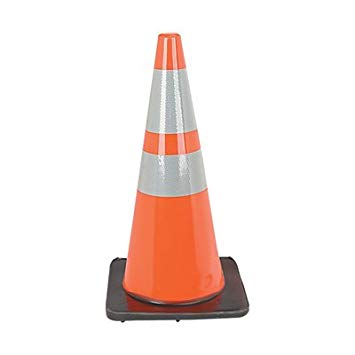cone: (106, 32, 251, 322)
